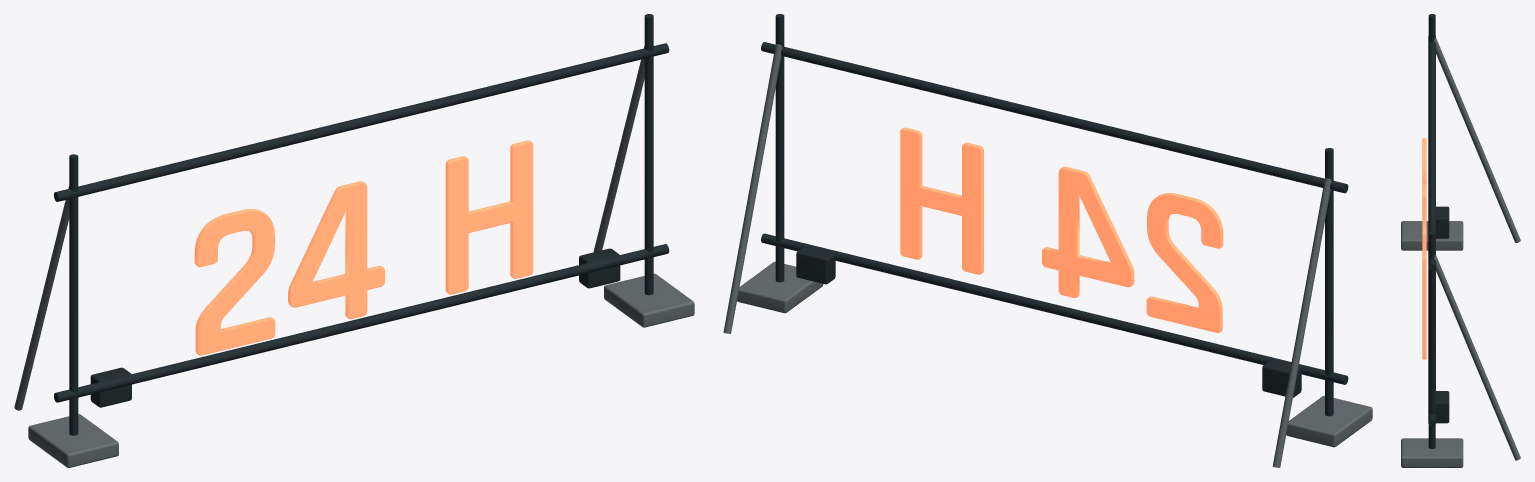
File: NC_NeonRoofSign_LOD0.fbx
3 renders of one model, left to right at view 1: azimuth 30°, elevation 25°; view 2: azimuth 150°, elevation 25°; view 3: azimuth 270°, elevation 25°, orthographic. The views are drawn at different scales.
Parts seen in each view (by area): view 1: NC_NeonRoofSign_LOD0; view 2: NC_NeonRoofSign_LOD0; view 3: NC_NeonRoofSign_LOD0.
Part boxes in pixels (left/top/right/bottom): NC_NeonRoofSign_LOD0: left=14, top=14, right=694, bottom=467; NC_NeonRoofSign_LOD0: left=723, top=14, right=1372, bottom=467; NC_NeonRoofSign_LOD0: left=1401, top=14, right=1520, bottom=467.
Bounding box in the file's own units: 720 × 321 × 154.
